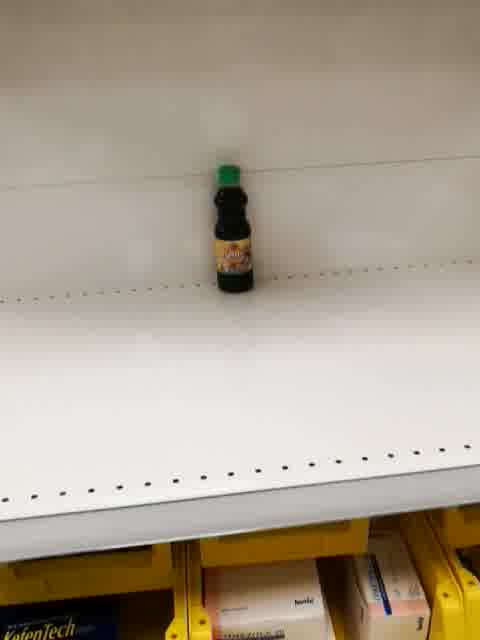cookingoil: (212, 163, 256, 296)
